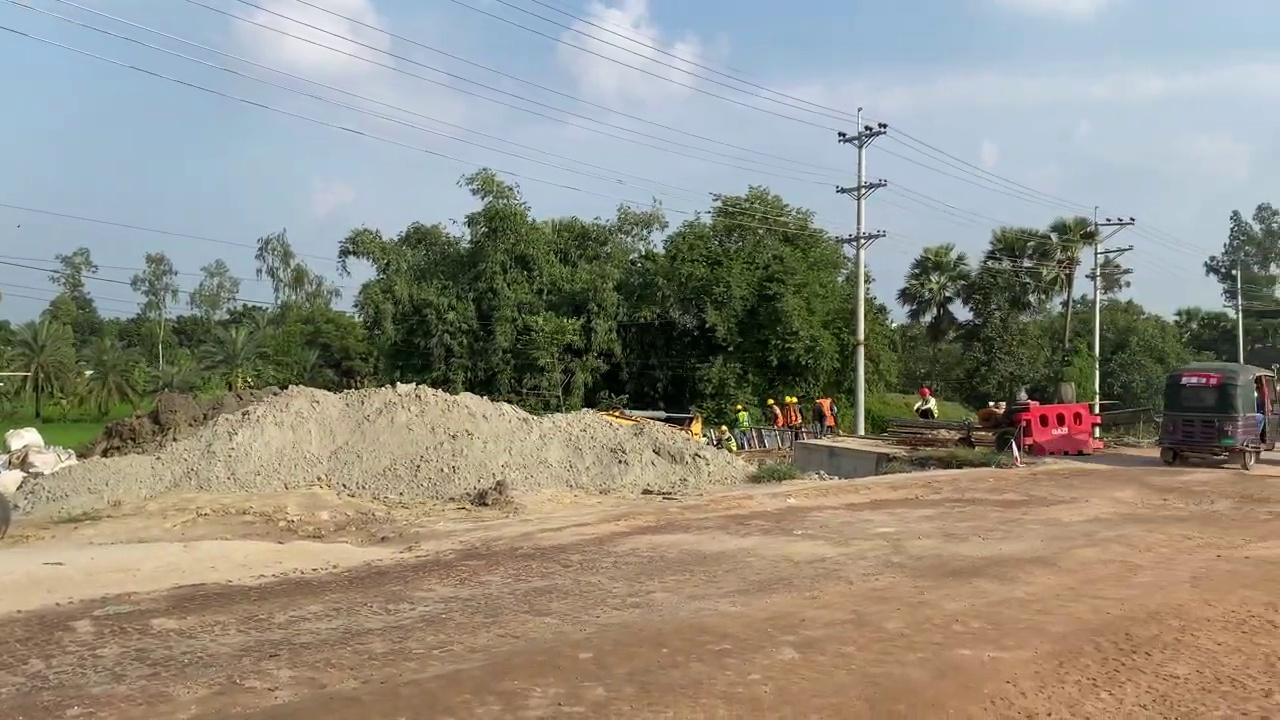Construction-barrier: (1015, 400, 1103, 456)
Garbage: (6, 380, 762, 520)
Light-pole: (835, 107, 889, 435)
Pole: (1233, 260, 1244, 364)
Tree: (1155, 360, 1278, 471), (975, 381, 1104, 456)
